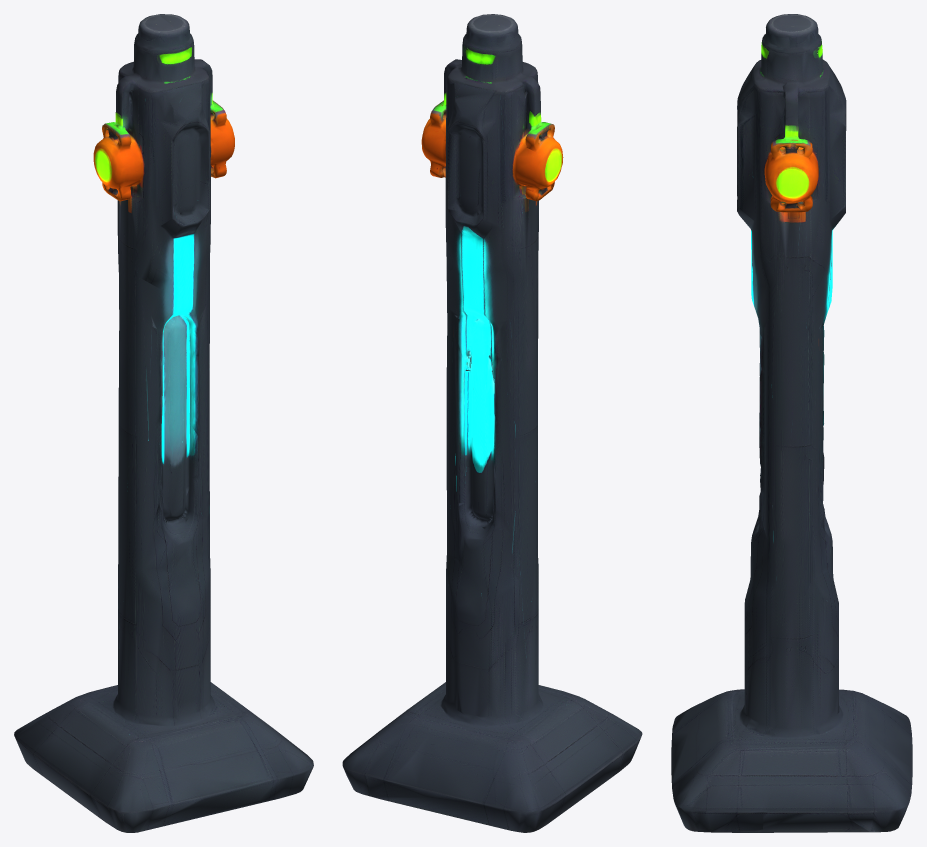
3 renders of one model, left to right at view 1: azimuth 30°, elevation 25°; view 2: azimuth 150°, elevation 25°; view 3: azimuth 270°, elevation 25°, orthographic.
Bounding box in the file's own units: 0.5443 × 1.9 × 0.5444.
Materials: 1 (1 with a texture image).
